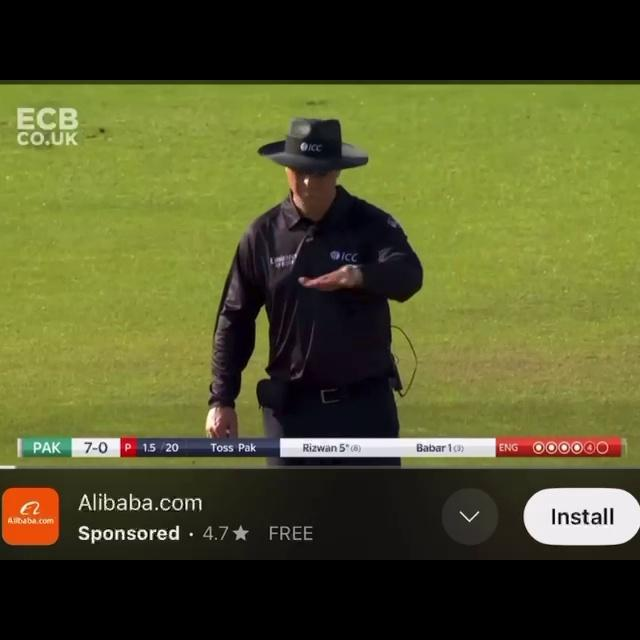umpire: (145, 114, 446, 445)
